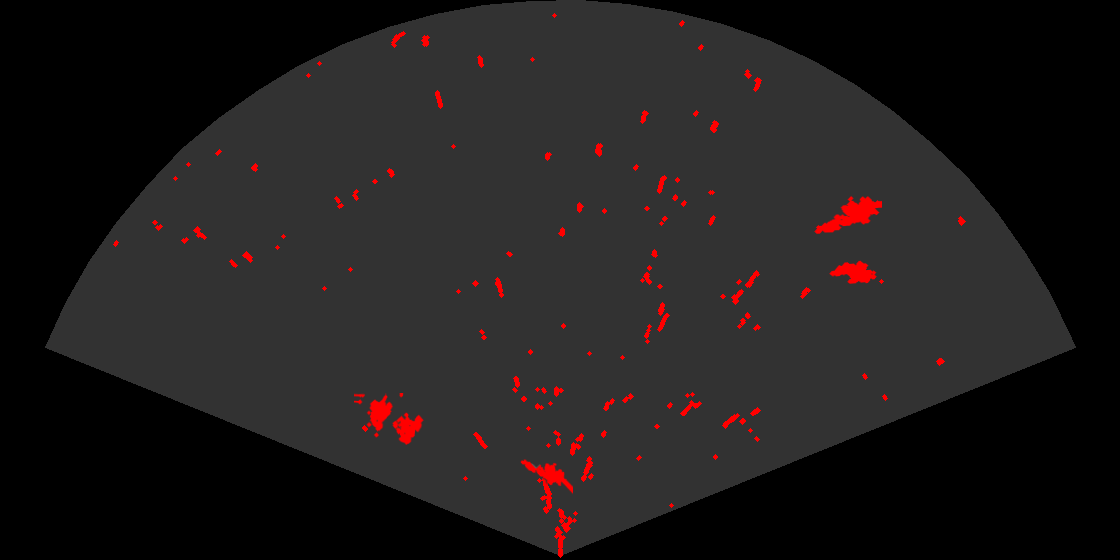AUV: (828, 259, 878, 285)
cage: (354, 393, 425, 446)
frogman: (813, 194, 882, 235), (519, 458, 573, 496)
